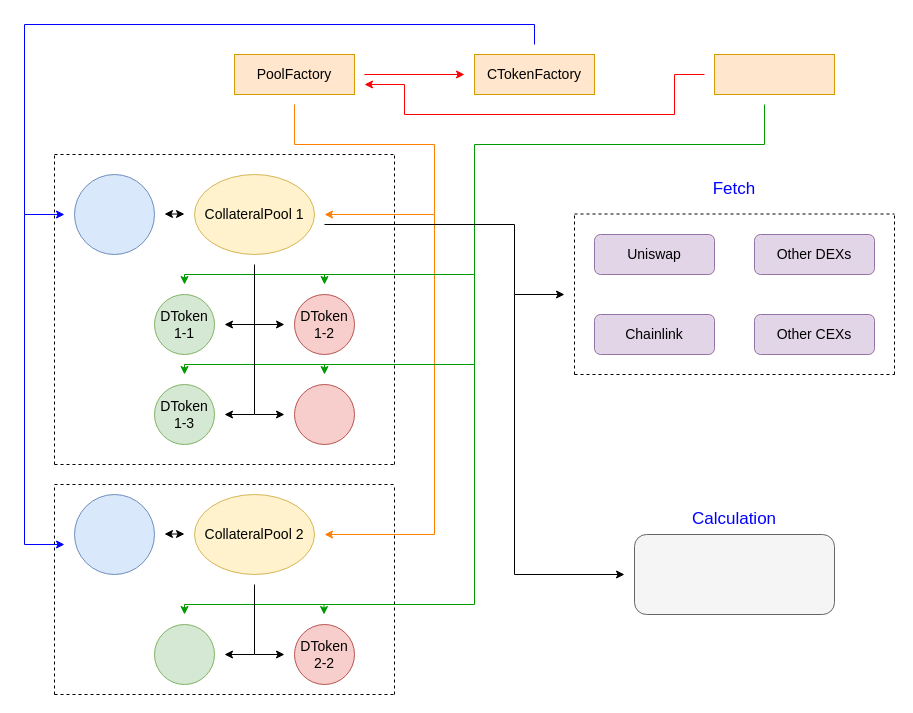
Some shapes in this 913 by 713 pixel diagram are drawn without their labels. Here are the shapes that lost their labels. From the top down, the centre of each, then its label:
point (774, 74): DTokenFactory
point (114, 214): CToken 1
point (324, 414): DToken 1-4
point (114, 534): CToken 2
point (734, 574): Token^n
point (184, 654): DToken 2-1
